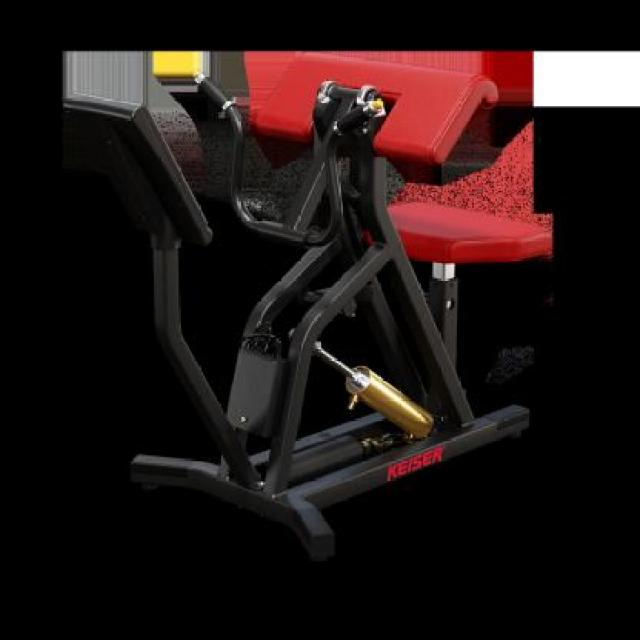arm curl machine: (66, 49, 554, 563)
